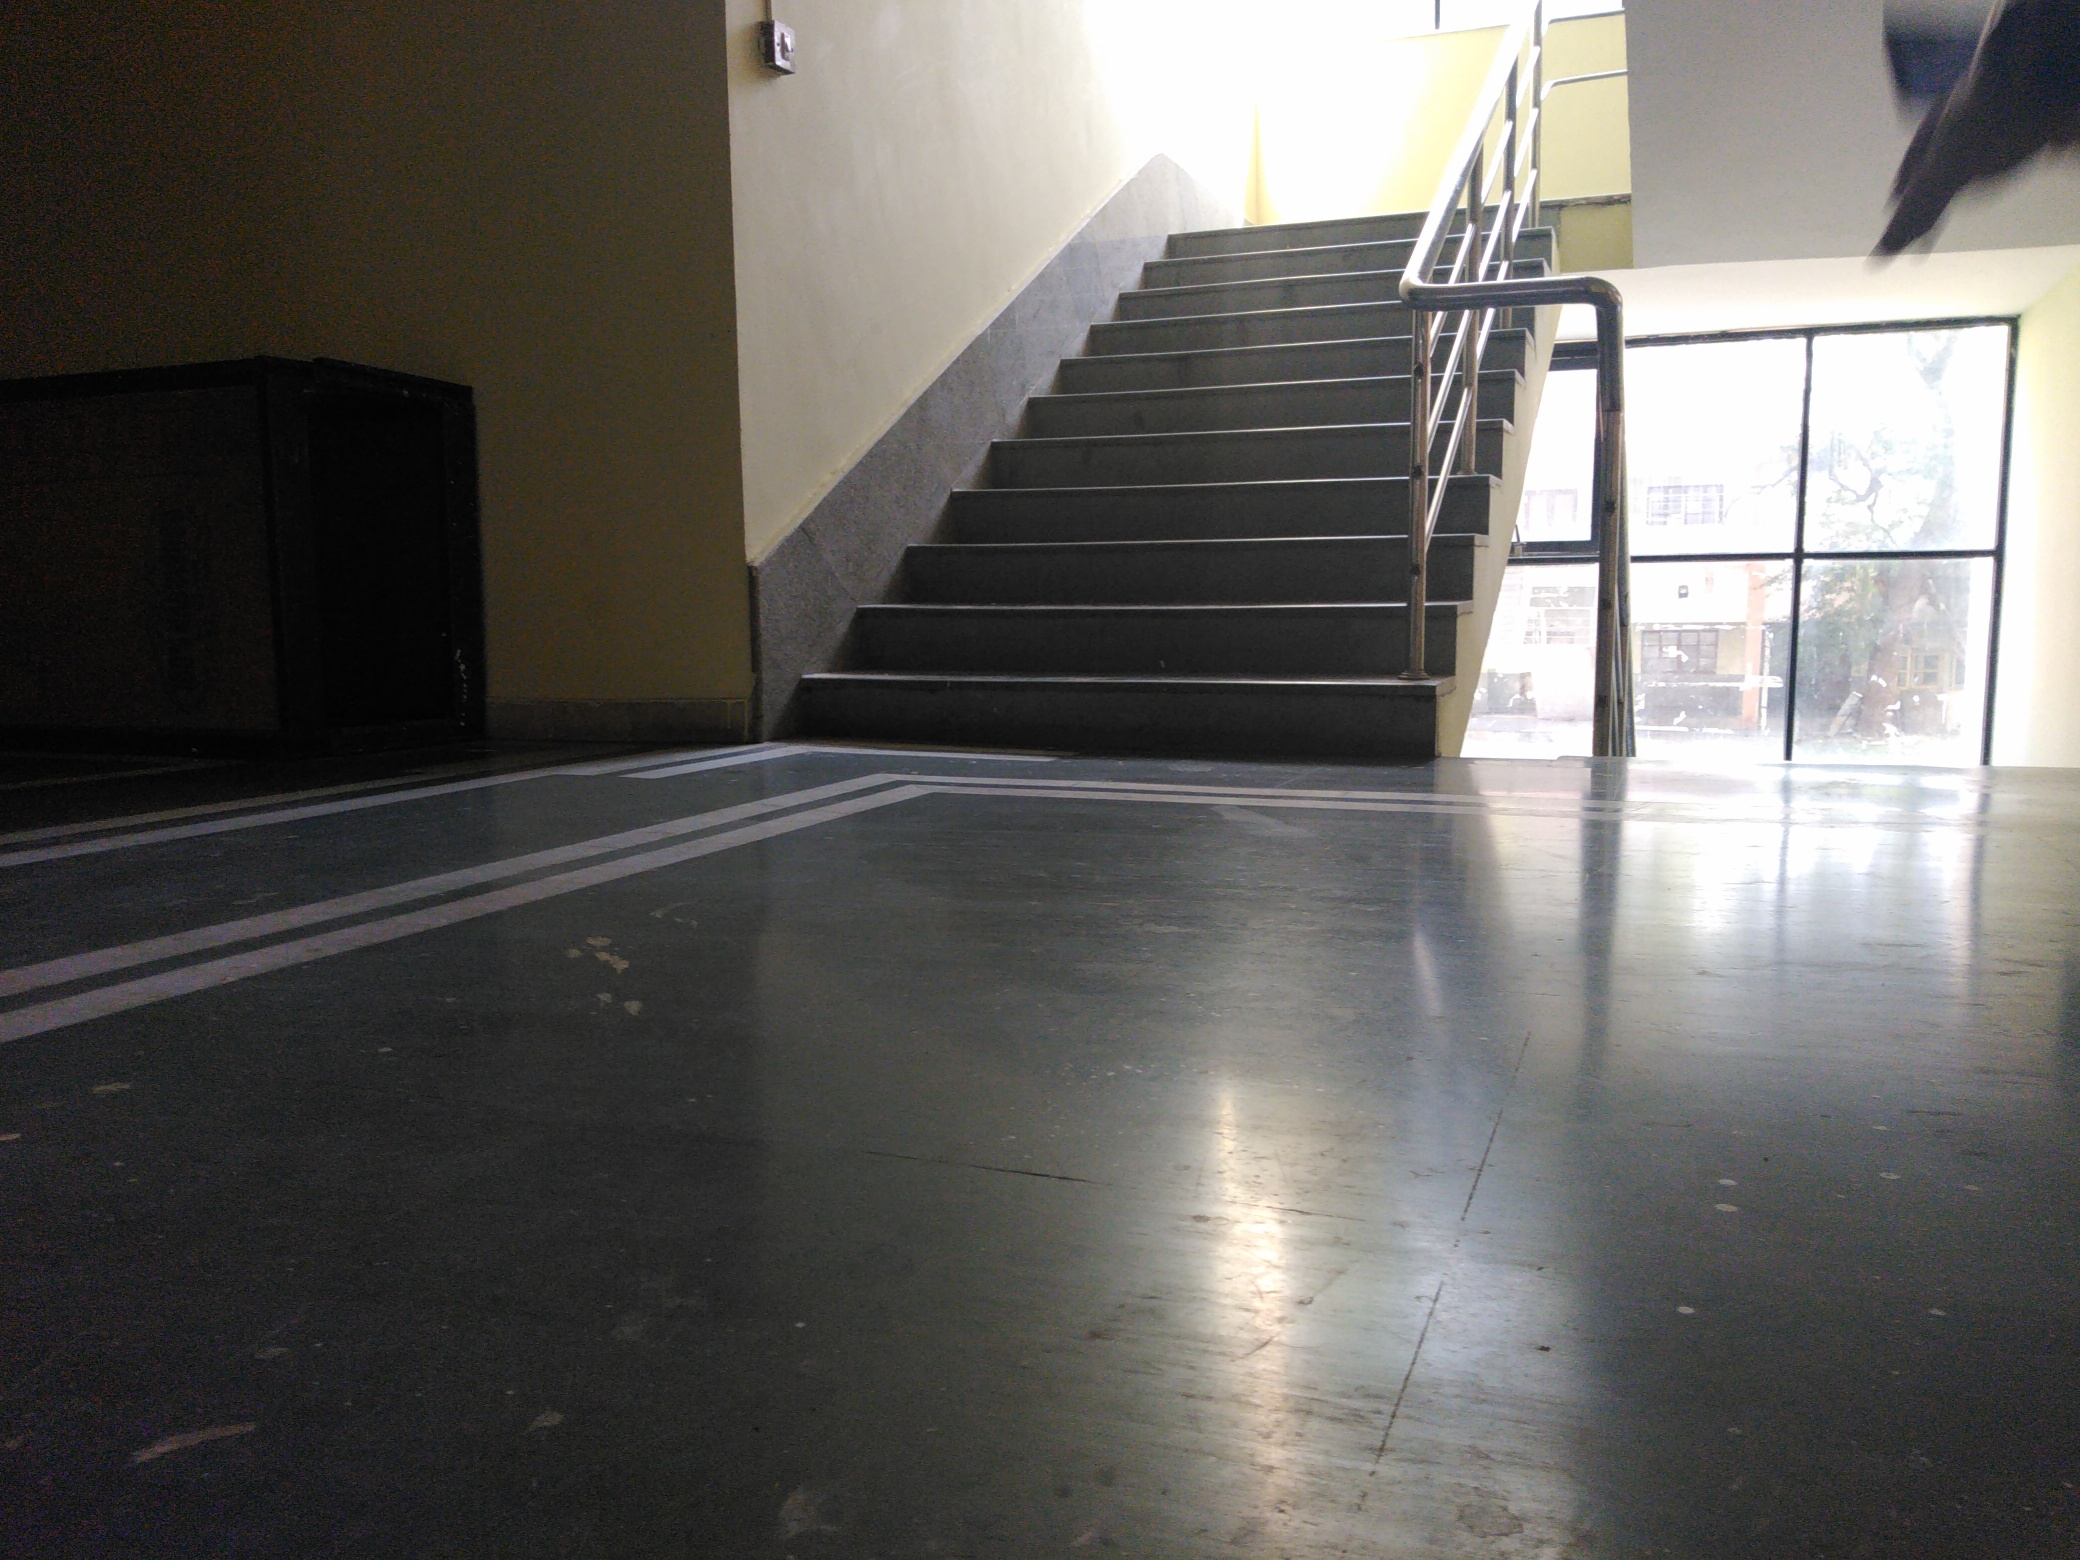stairs_up: (789, 170, 1526, 751)
